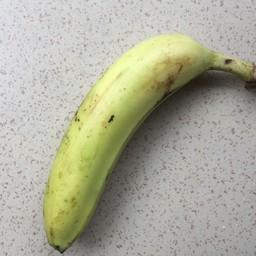Good_banana: (39, 30, 225, 256)
